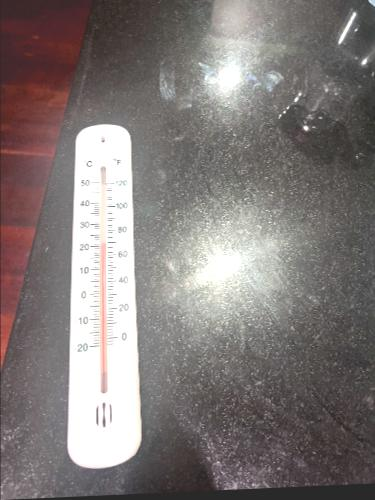thermo: (65, 122, 152, 468)
